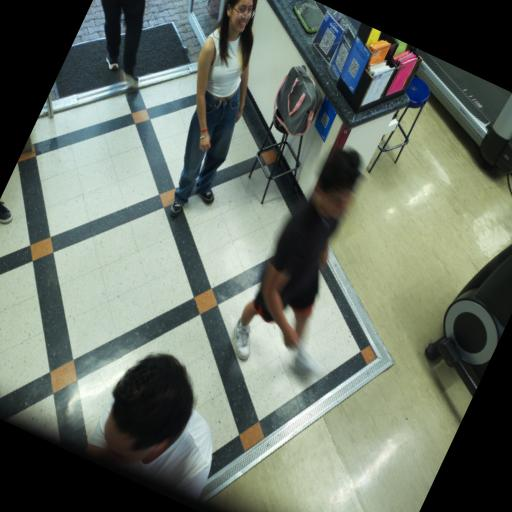person: (235, 150, 360, 360), (86, 354, 212, 499), (170, 0, 254, 217), (101, 0, 145, 87), (0, 202, 12, 224)
